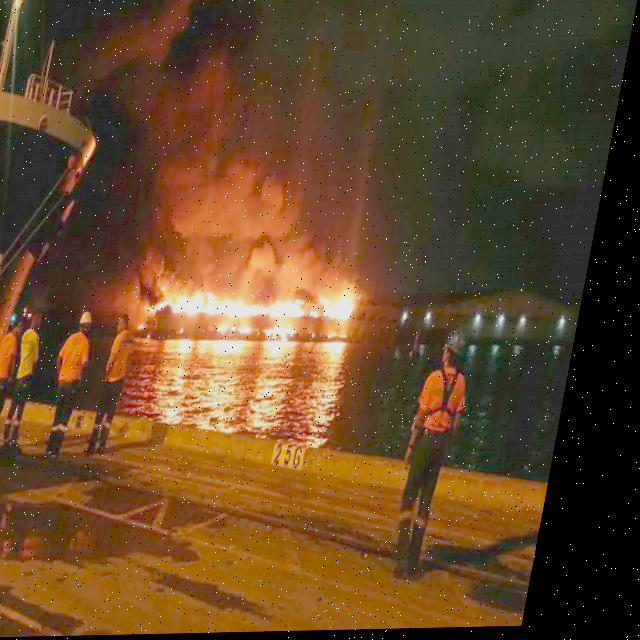Fire: (167, 283, 376, 319), (273, 320, 310, 340), (227, 322, 268, 335), (338, 328, 363, 347), (187, 324, 200, 336), (148, 322, 162, 333)
